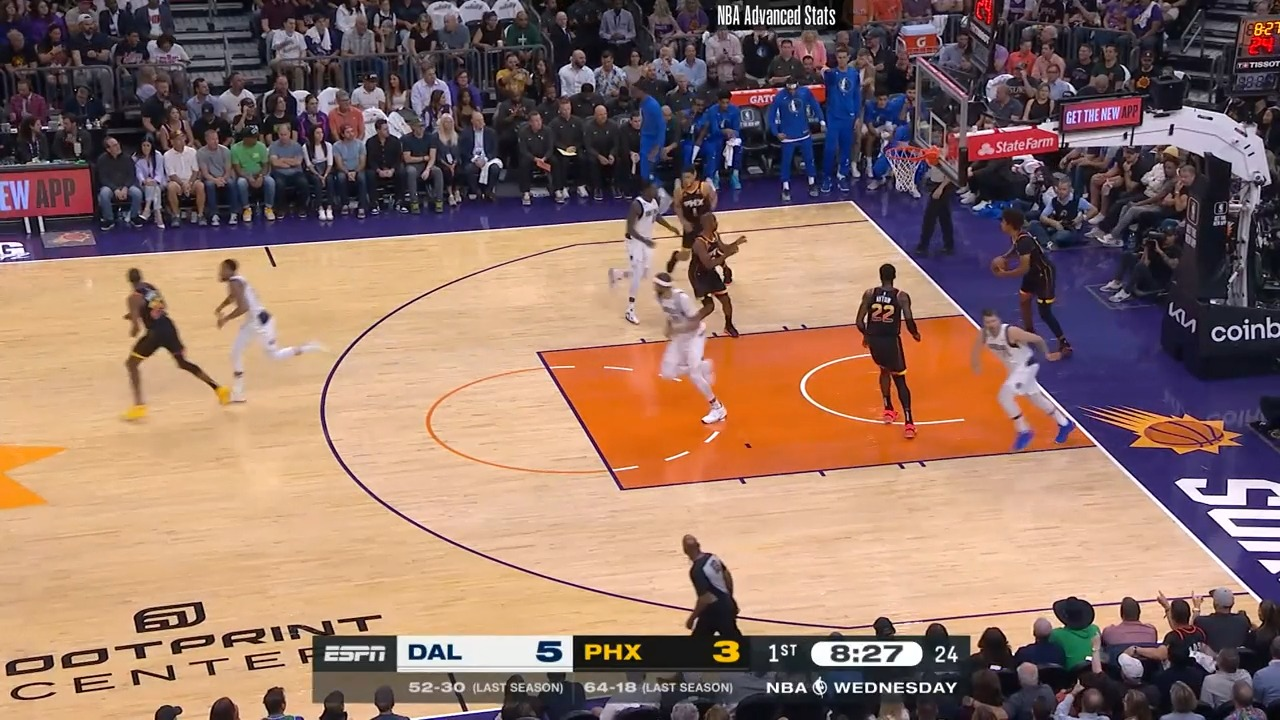net: (887, 137, 941, 189)
player: (653, 217, 735, 439), (110, 265, 227, 417), (965, 308, 1073, 454), (213, 254, 309, 406), (988, 215, 1072, 368), (854, 260, 922, 436), (617, 178, 692, 330), (690, 211, 749, 344), (672, 167, 718, 247)
referee: (673, 534, 748, 637), (915, 159, 954, 254)
